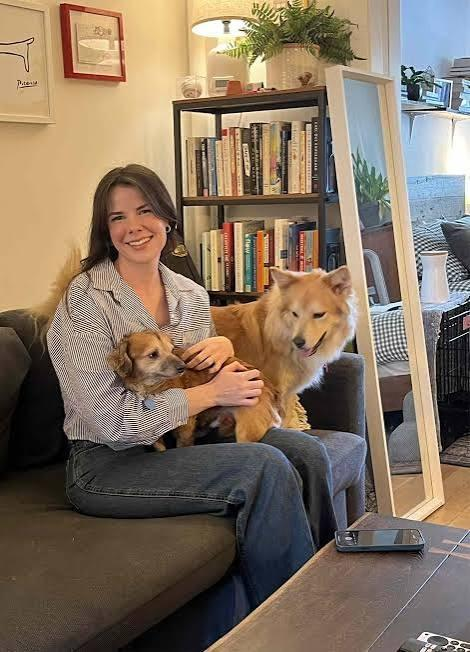adult_dog: (208, 264, 360, 446)
non-dog: (47, 163, 329, 650)
puppy-dog: (107, 329, 266, 453)
